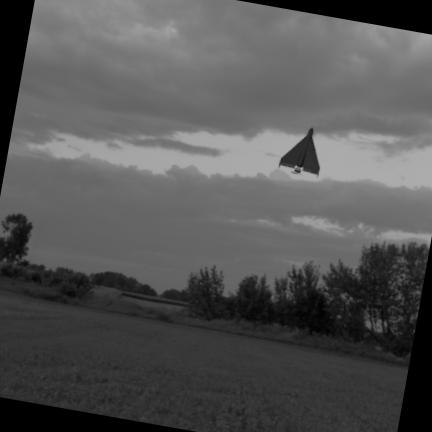Shahed: (280, 128, 320, 175)
